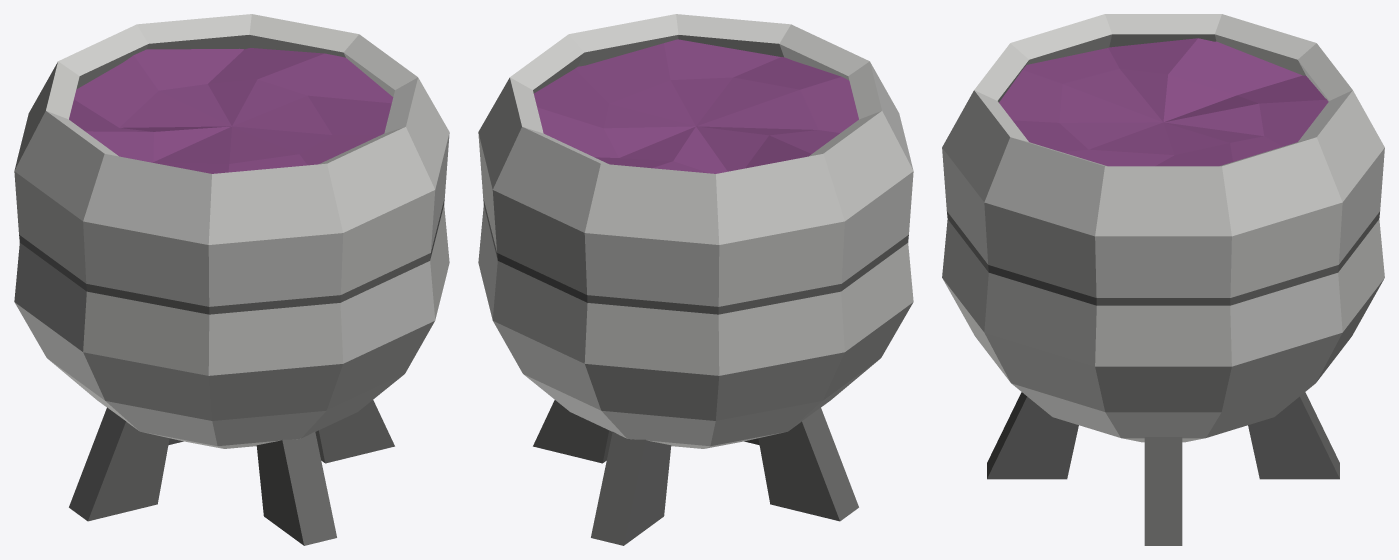
Rendered from Cauldron_4_White.fbx.
The picture shows the model from 3 angles, left to right: view 1: azimuth 30°, elevation 25°; view 2: azimuth 150°, elevation 25°; view 3: azimuth 270°, elevation 25°; orthographic projection.
Visible parts, largest first — view 1: Cauldron_1_White_Part_1, Cauldron_1_White_Part_3, Cauldron_1_White_Part_2; view 2: Cauldron_1_White_Part_1, Cauldron_1_White_Part_3, Cauldron_1_White_Part_2; view 3: Cauldron_1_White_Part_1, Cauldron_1_White_Part_3, Cauldron_1_White_Part_2.
Part boxes in pixels (<box>): Cauldron_1_White_Part_1: <box>14,14,449,448</box>; Cauldron_1_White_Part_3: <box>69,48,393,173</box>; Cauldron_1_White_Part_2: <box>19,197,444,545</box>; Cauldron_1_White_Part_1: <box>478,14,913,448</box>; Cauldron_1_White_Part_3: <box>534,39,858,173</box>; Cauldron_1_White_Part_2: <box>483,197,908,545</box>; Cauldron_1_White_Part_1: <box>942,14,1384,442</box>; Cauldron_1_White_Part_3: <box>999,38,1328,166</box>; Cauldron_1_White_Part_2: <box>947,211,1379,545</box>.
Size of the model in its own units: 95.89 by 95.75 by 101.
